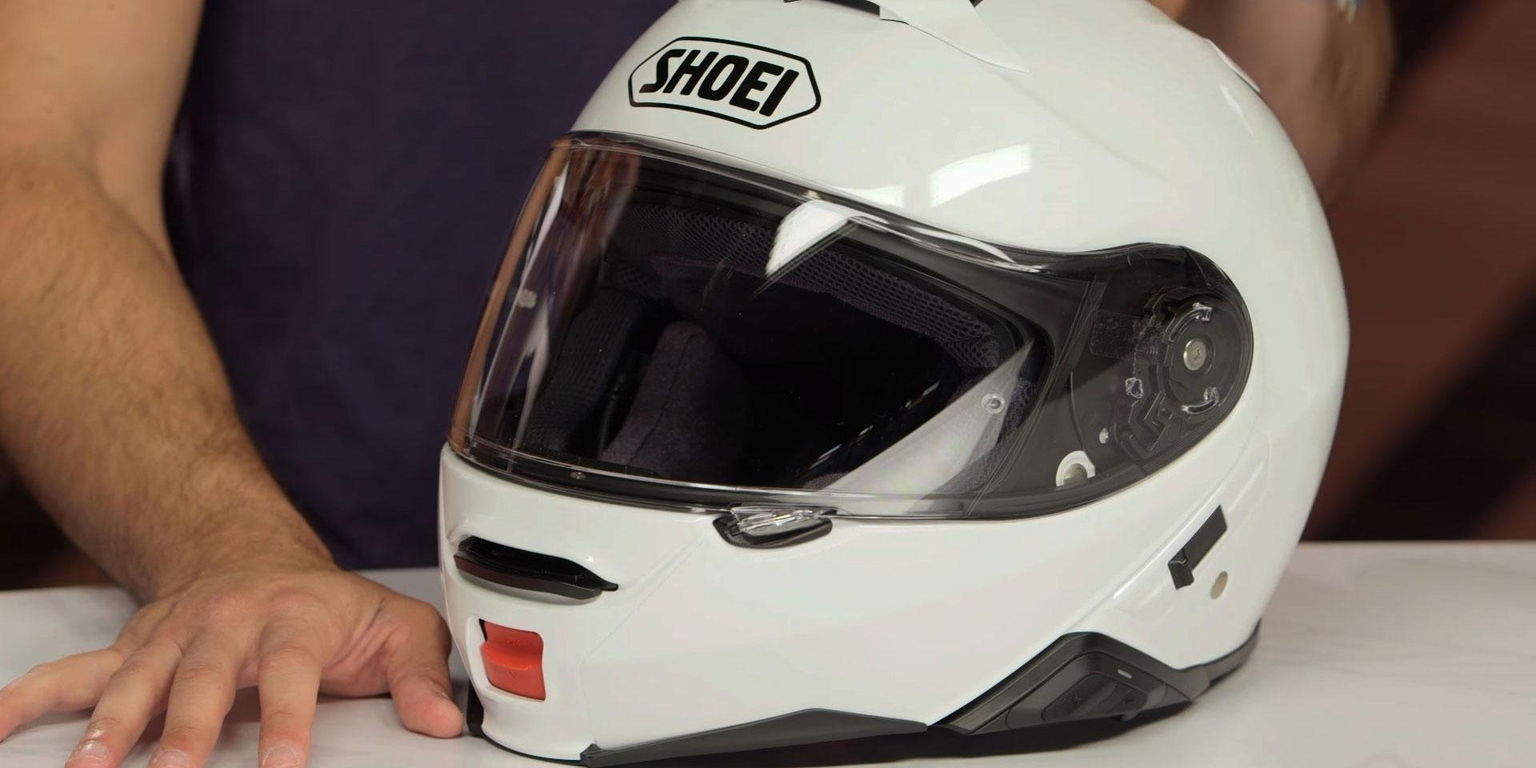Helmet: (442, 0, 1346, 757)
